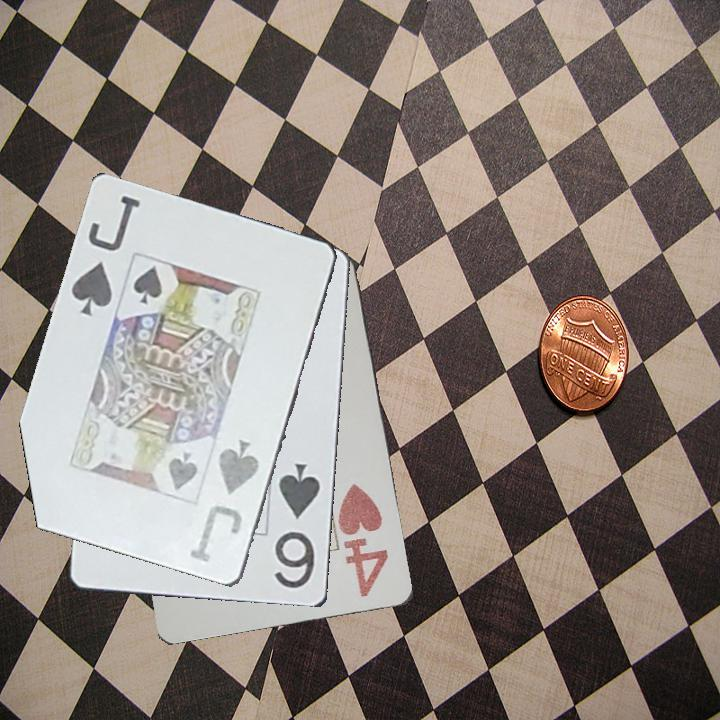4h: (335, 480, 392, 600)
6s: (271, 460, 324, 592)
Js: (186, 437, 263, 569), (68, 192, 144, 320)
